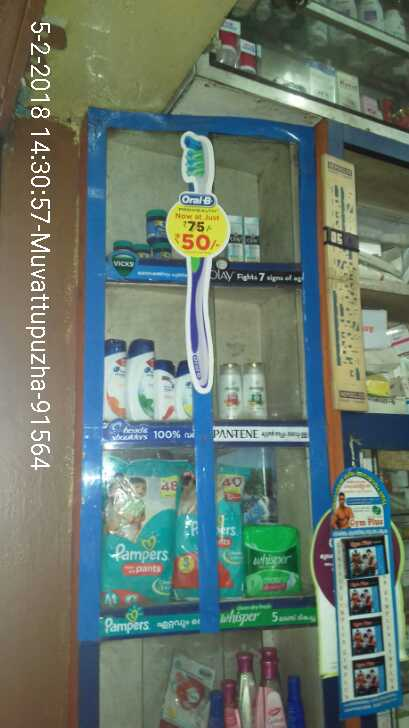vicks: (117, 207, 171, 256)
